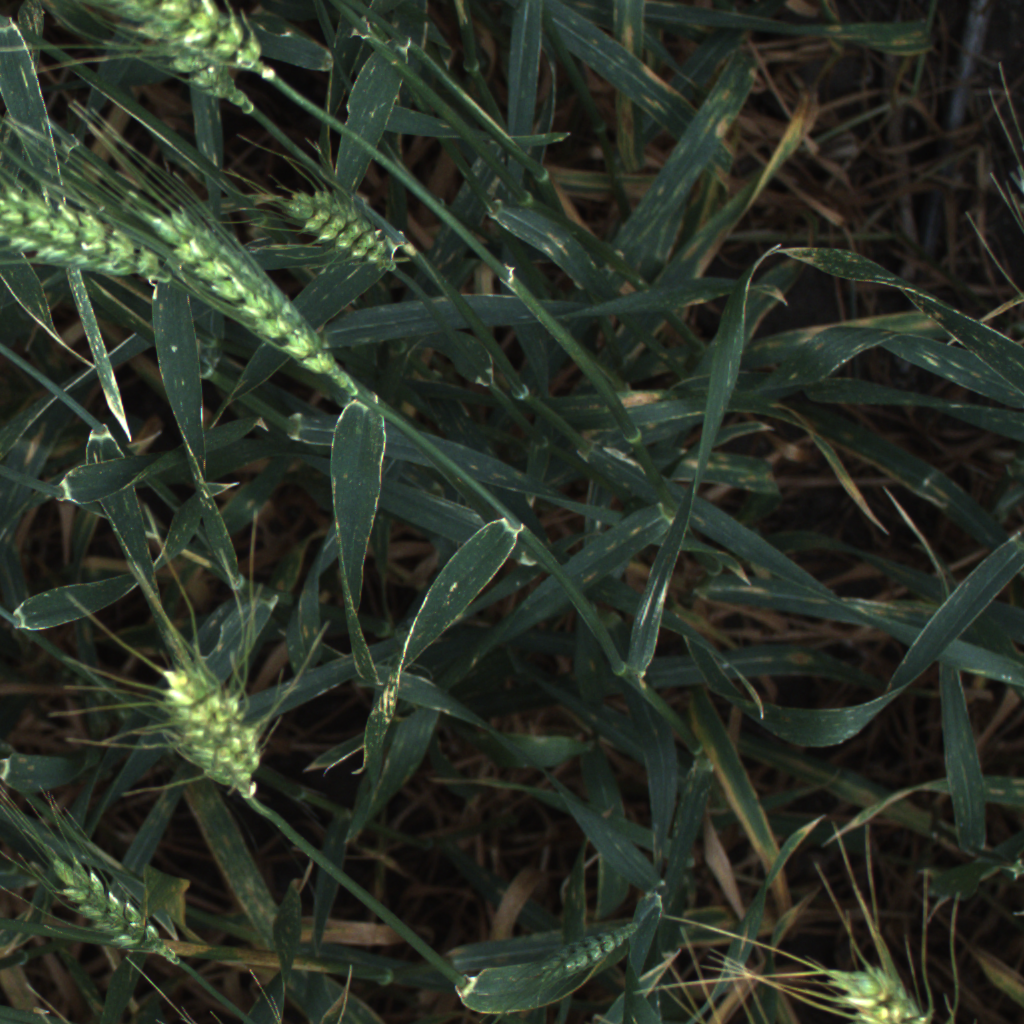wheat_head: (141, 188, 348, 387), (0, 178, 173, 295), (155, 655, 278, 815), (43, 852, 177, 965), (269, 178, 419, 274), (135, 0, 286, 94), (513, 914, 659, 1003), (808, 954, 965, 1024), (153, 33, 262, 115)
